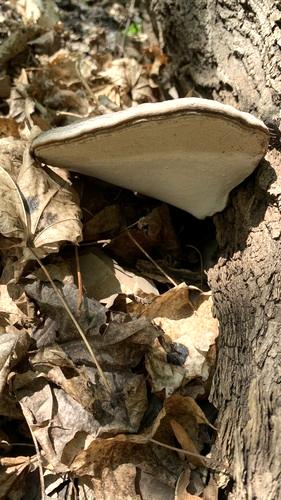Ganoderma - Fruit Body: (28, 98, 271, 220)
